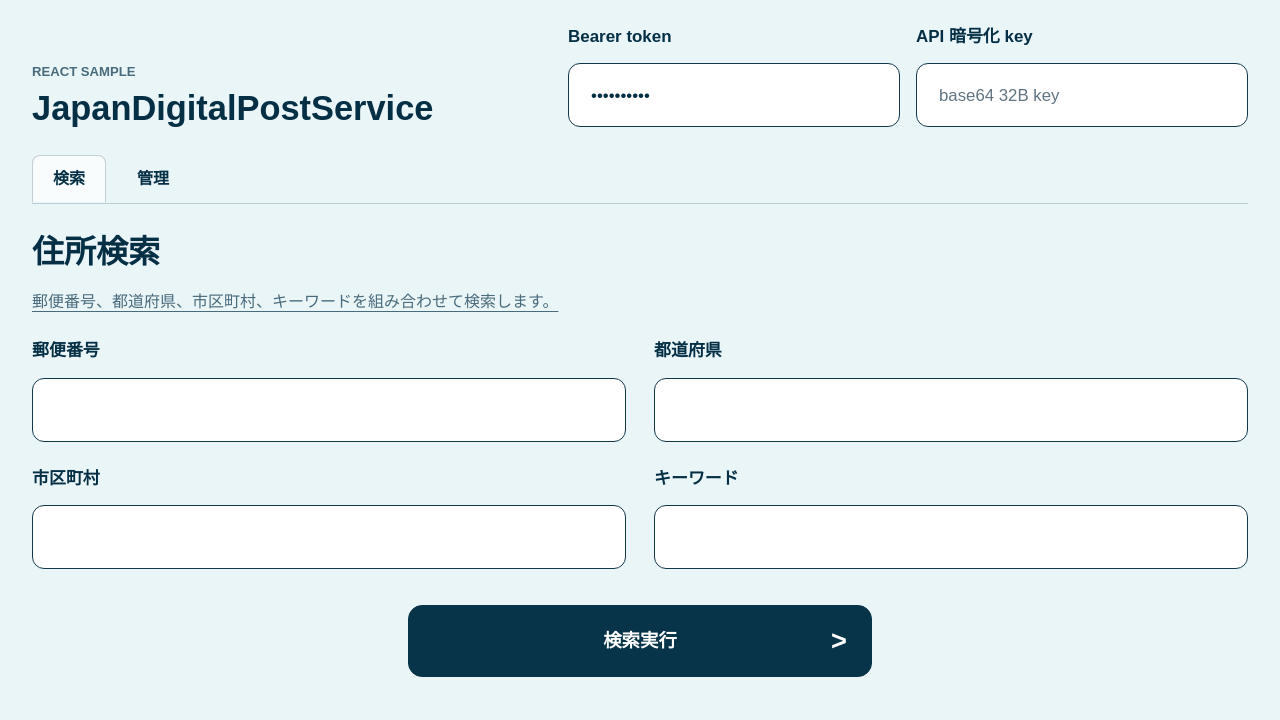
Test case: App › decrypts encrypted API responses after configuring the AES-GCM key
Type "MDEyMzQ1Njc4OWFiY2RlZjAxMjM0NTY3ODlhYmNkZWY=" into the password field labelled "API 暗号化 key" at [1082, 95], box x1=916 y1=63 x2=1248 y2=127
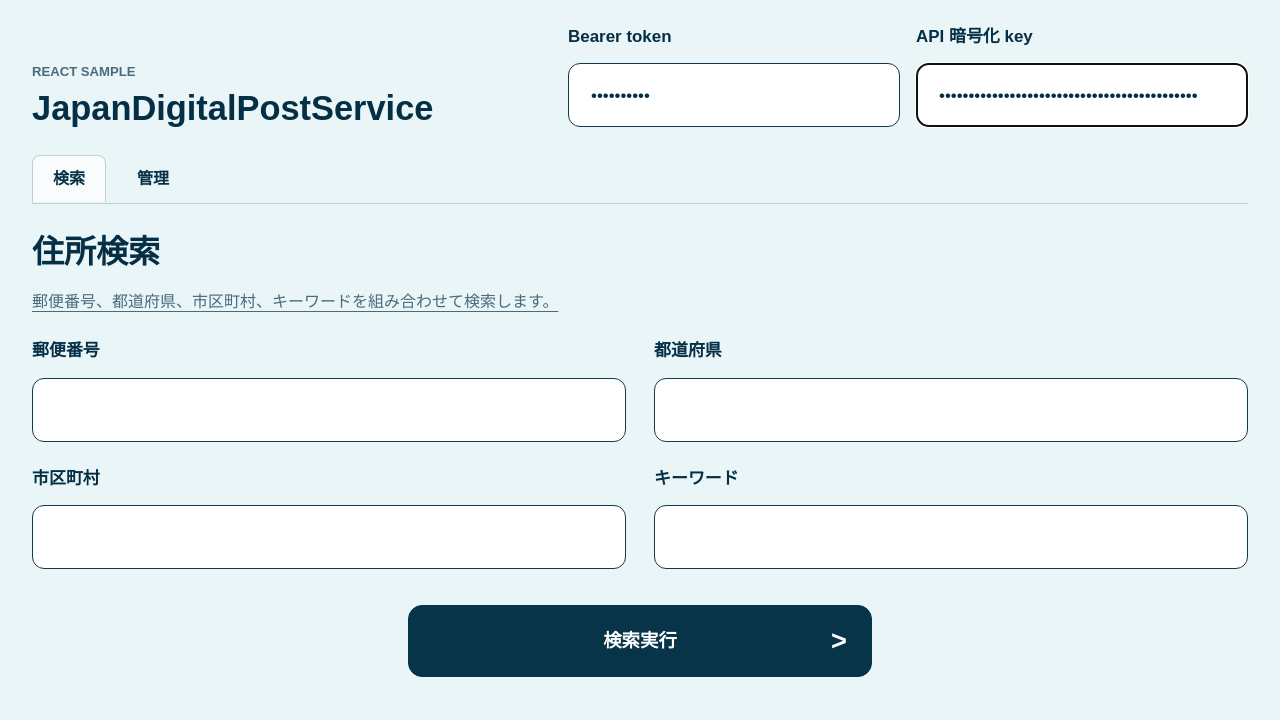
Type "1000001" into the field labelled "郵便番号" at [329, 410], box x1=32 y1=378 x2=626 y2=442
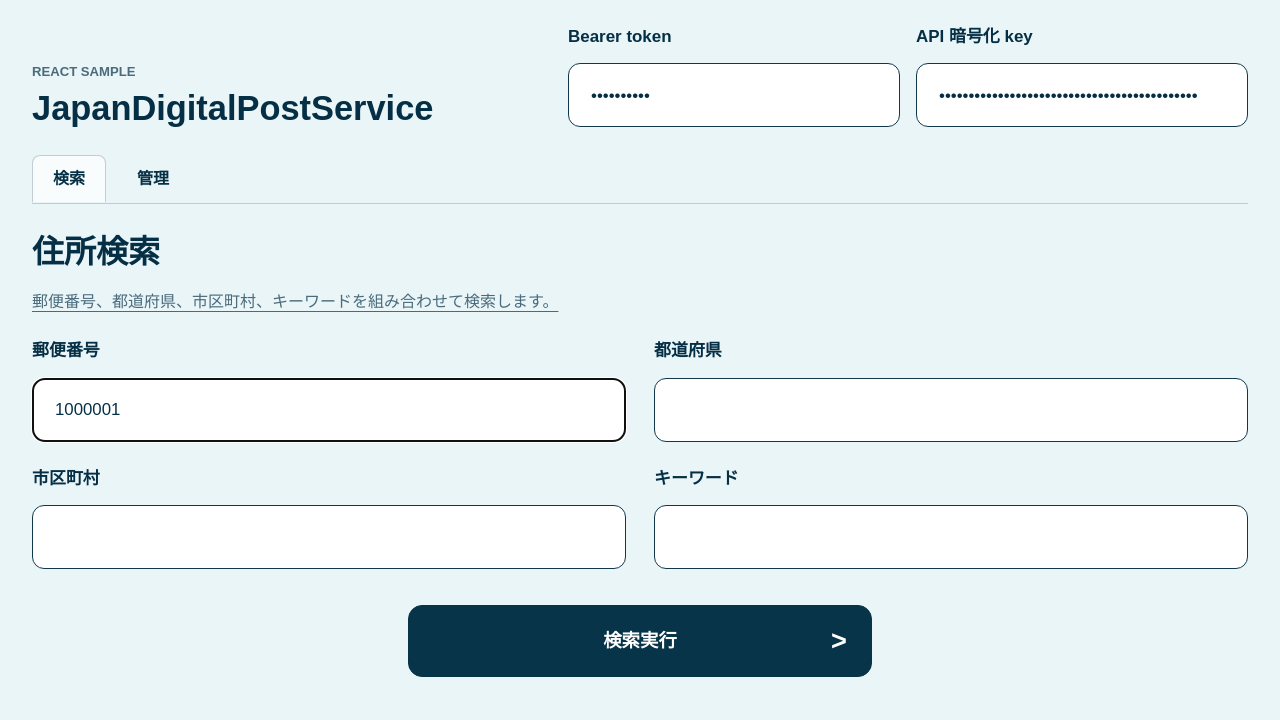
Click the button "検索実行" at [640, 641], box x1=408 y1=605 x2=872 y2=677
(page scrolled)
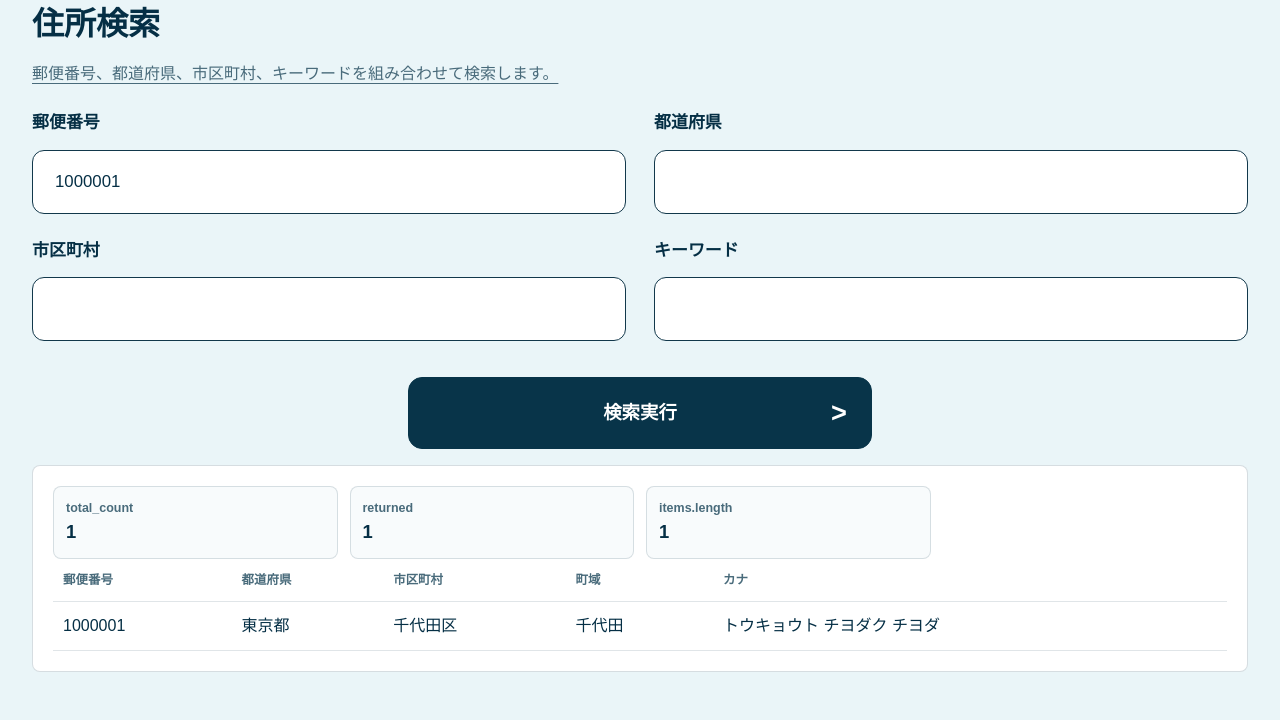
Check: the text "東京都" is shown, box x1=232 y1=602 x2=383 y2=651
Check: the text "total_count" is shown, box x1=66 y1=501 x2=133 y2=515
